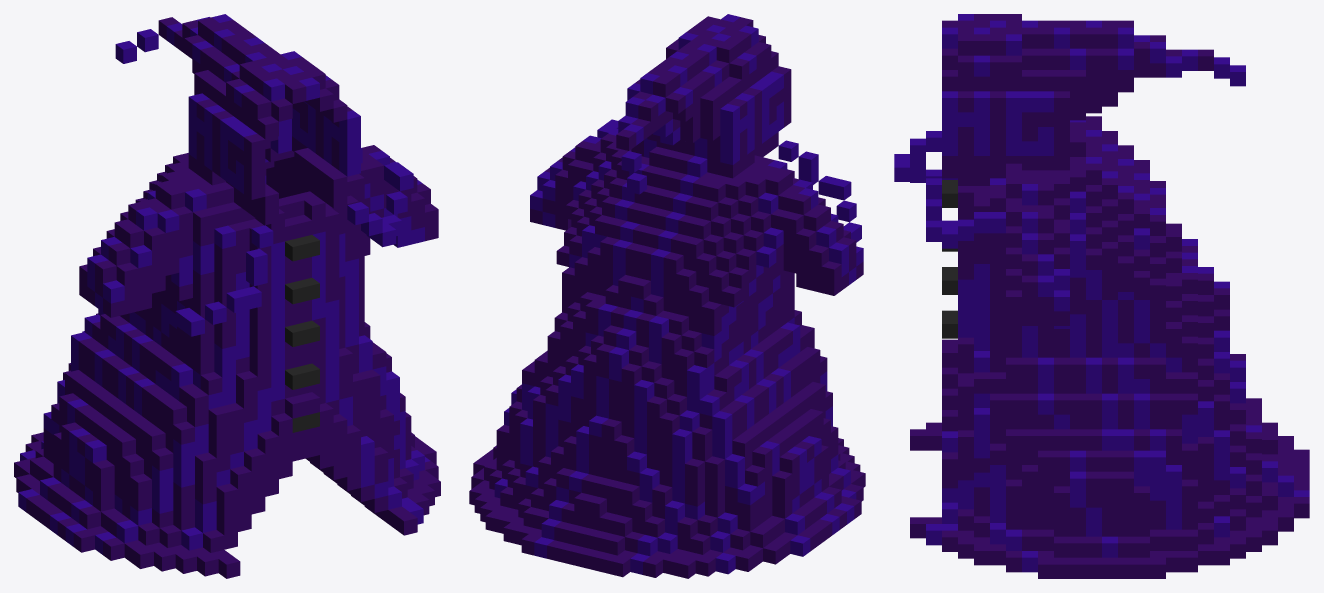
File: robe.glb
3 renders of one model, left to right at view 1: azimuth 30°, elevation 25°; view 2: azimuth 150°, elevation 25°; view 3: azimuth 270°, elevation 25°, orthographic. The views are drawn at different scales.
Parts seen in each view (by area): view 1: Robe; view 2: Robe; view 3: Robe.
Boxes of the visible parts, x1=… form: Robe: x1=14, y1=14, x2=440, y2=578; Robe: x1=469, y1=14, x2=865, y2=578; Robe: x1=894, y1=14, x2=1309, y2=578.
Bounding box in the file's own units: 2.6 × 3.2 × 2.6.
Materials: 1 (1 with a texture image).
